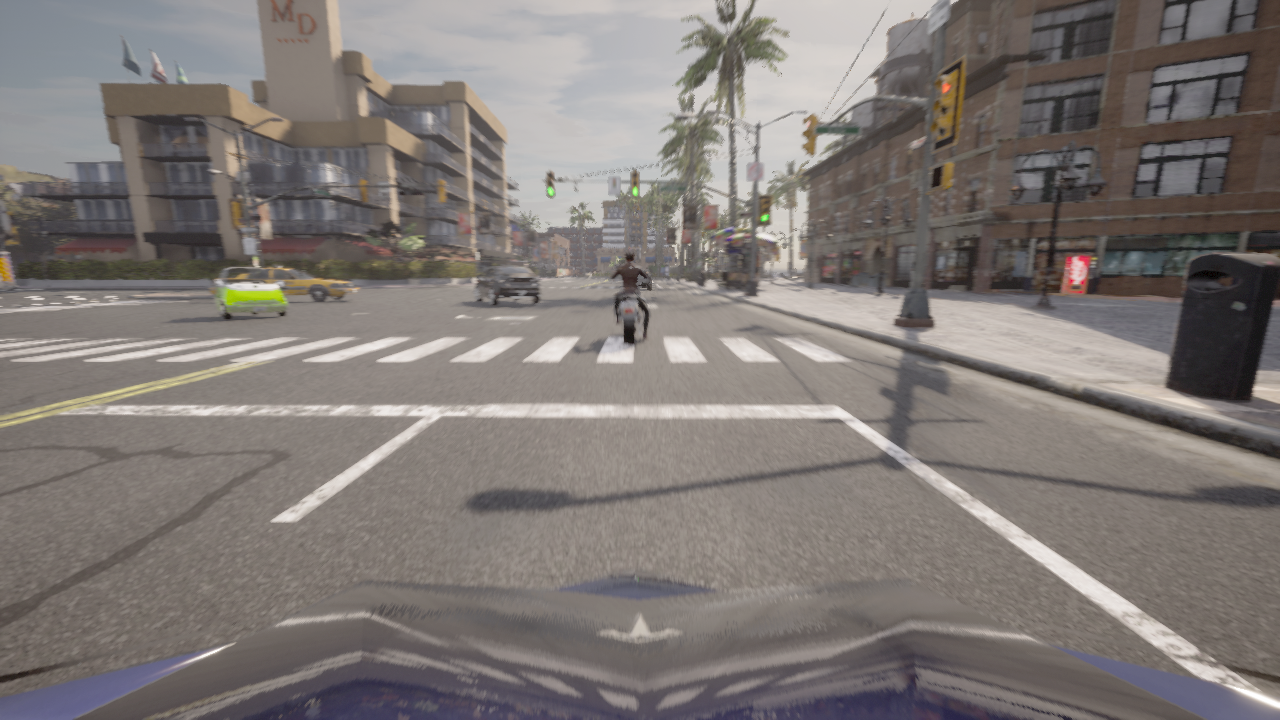cyclist: (0, 569, 1279, 719), (210, 264, 359, 301), (215, 267, 287, 319), (610, 269, 650, 345), (474, 265, 541, 305), (638, 274, 651, 289)
